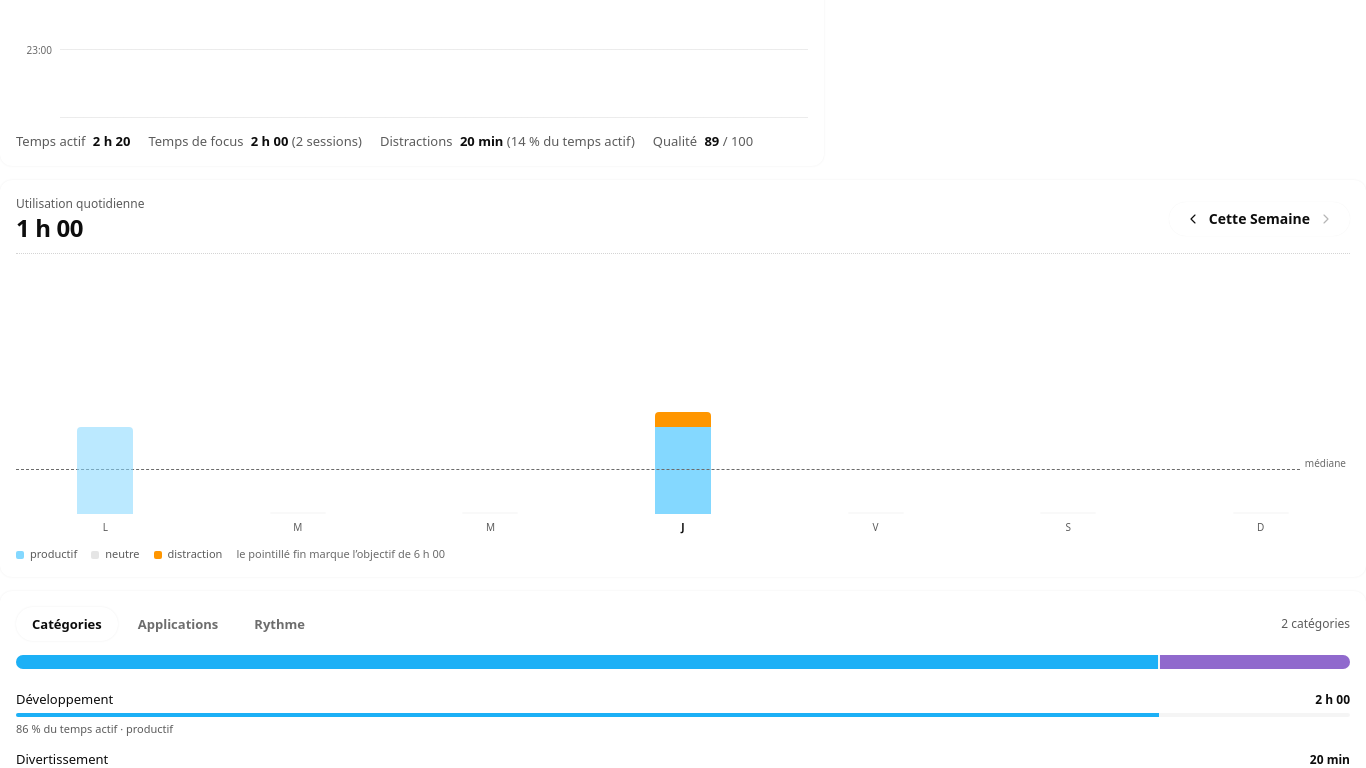
page Activité (journée) › montre le temps d'écran de la semaine et mène au jour cliqué
(page scrolled)
Expected: the text "Utilisation quotidienne" is shown, x1=16 y1=196 x2=144 y2=213
Click the element named "Monday, August 24 — 2 h 00": (105, 470) x1=77 y1=427 x2=133 y2=514
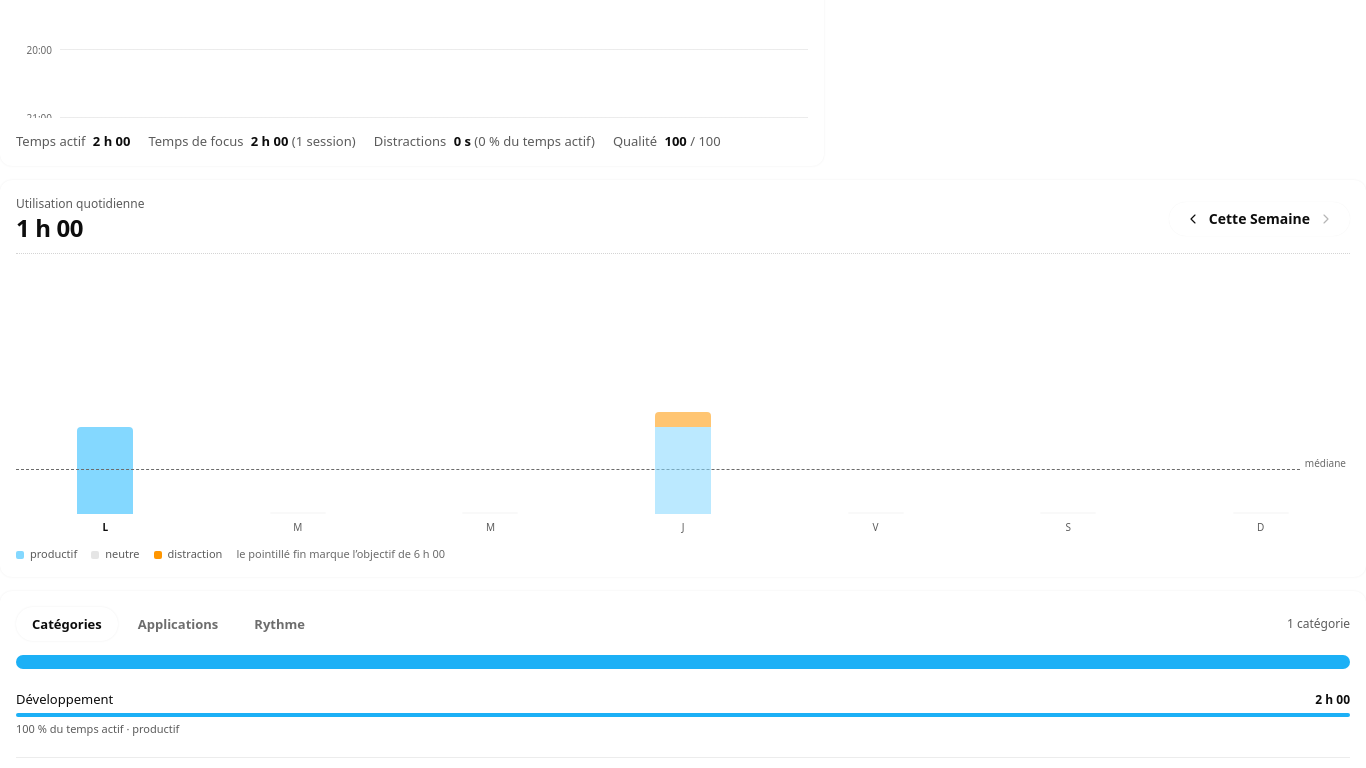
Now the 1st text "2 h 00" is shown, box x1=93 y1=132 x2=130 y2=150
